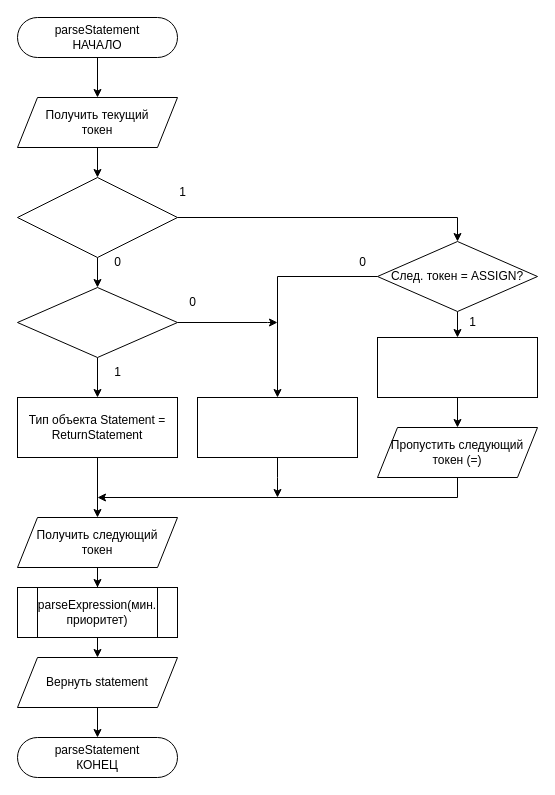
This 555x795 diagram has some shape labels left out. The box of each missing label's shape, as (x1, y1, x2, y2) in pixels:
Тип объекта Statement = AssignStatement: (376, 336, 538, 398)
Тип объекта Statement = ExpressionStatement: (196, 396, 358, 458)
Токен = IDENT?: (16, 176, 178, 258)
Токен = RETURN?: (16, 286, 178, 358)
